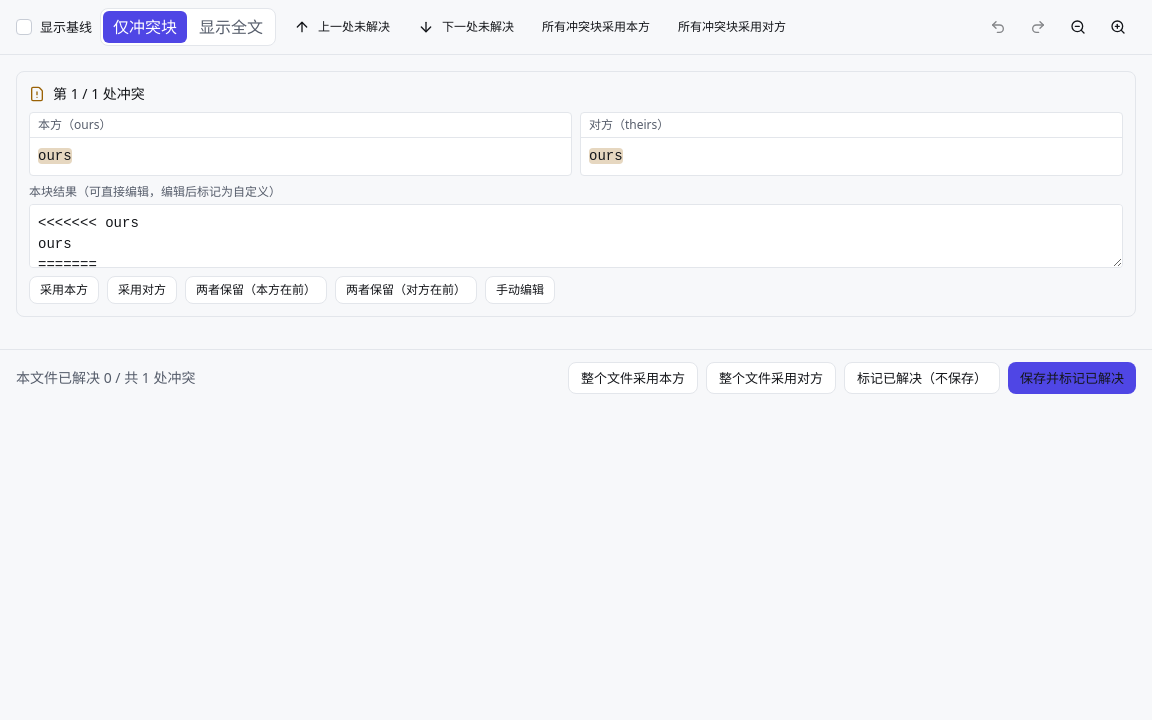
ConflictEditor › 撤销把块状态退回未解决
What coordinates should you click on to do the following:
click the button with test id "conflict-adopt-ours-0"
I would click on:
 (64, 290)
Its box is left=29, top=276, right=99, bottom=304.
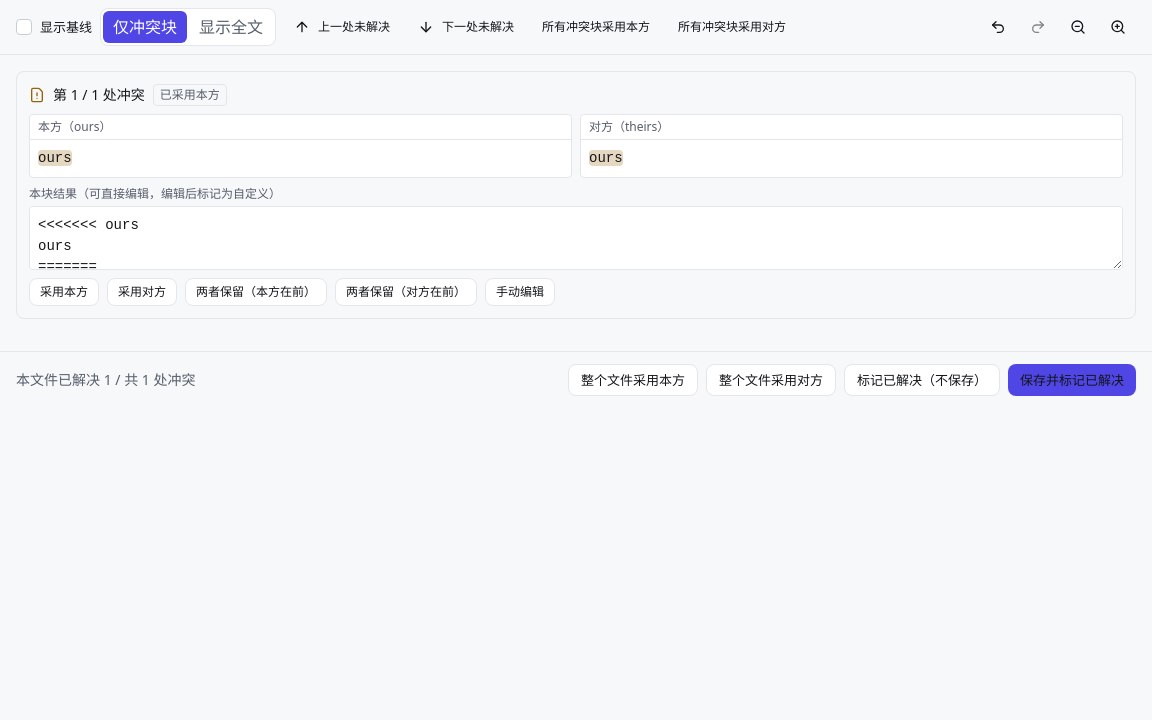
expect the button with test id "editor-undo" is enabled: met
What coordinates should you click on to do the following:
click the button with test id "editor-undo"
I would click on:
 (998, 27)
Its box is left=980, top=13, right=1016, bottom=41.
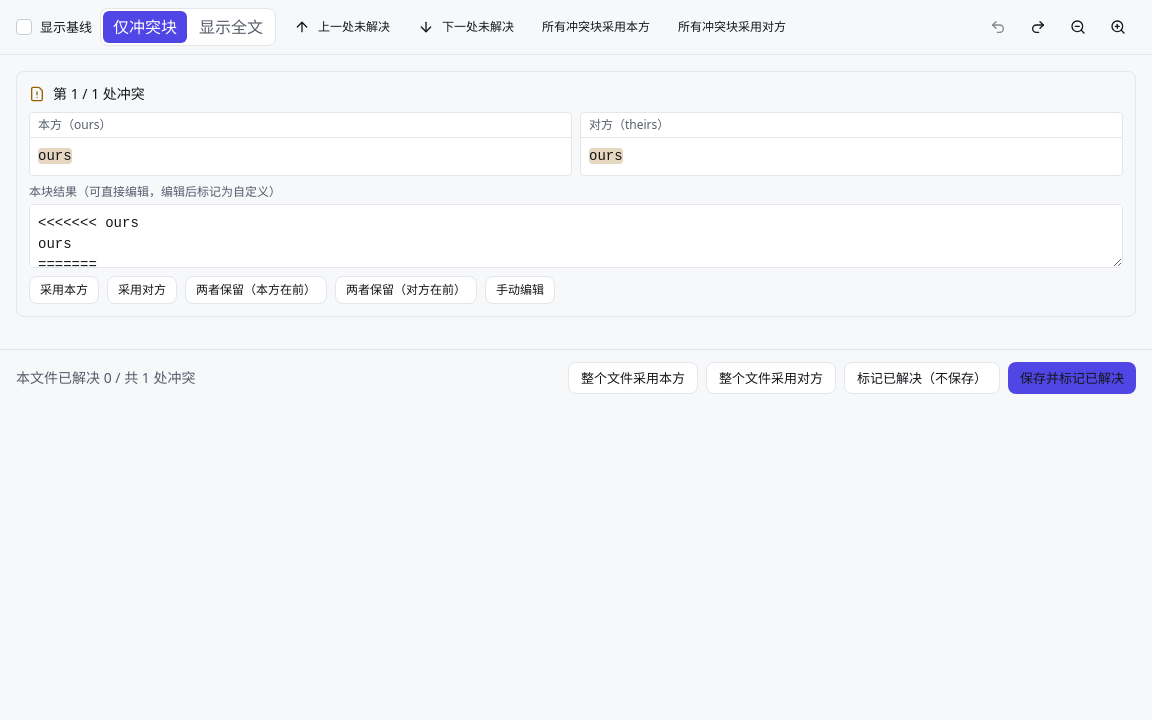
Note: 撤销后未解决计数回到 1，直接保存会触发残留警告
What coordinates should you click on to do the following:
click the button with test id "editor-save-resolve"
I would click on:
 (1072, 378)
Its box is left=1008, top=362, right=1136, bottom=394.
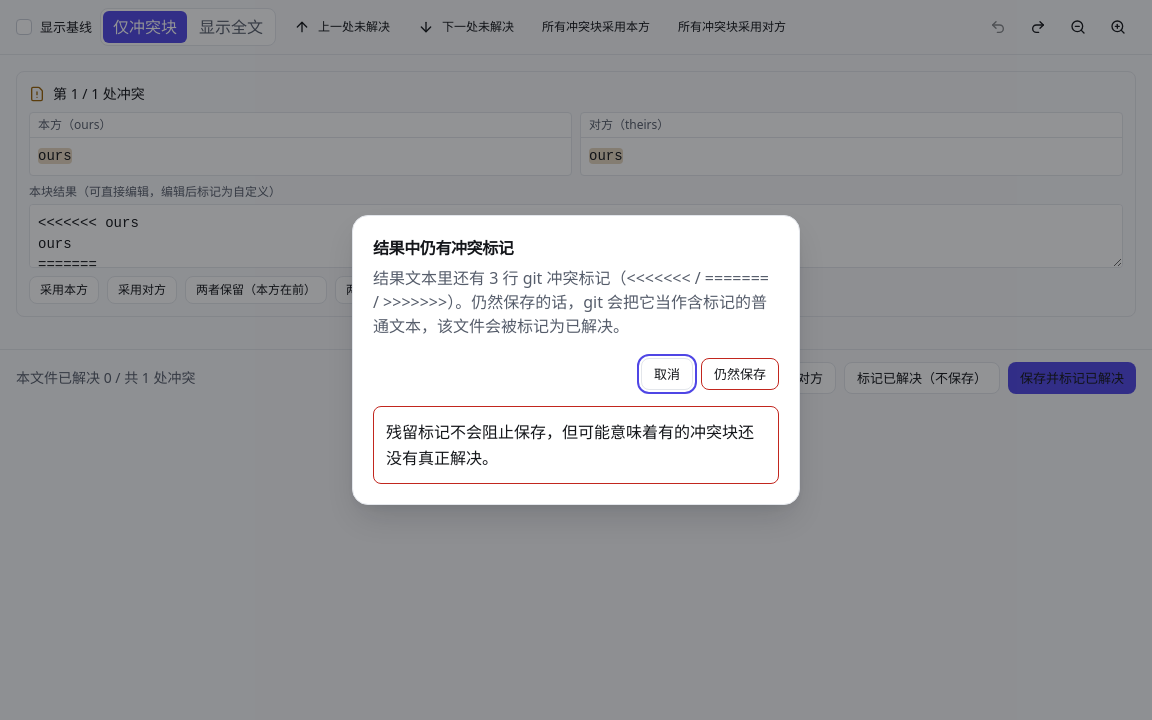
expect the button with test id "editor-markers-keep" is shown: met, box left=701, top=358, right=779, bottom=390
